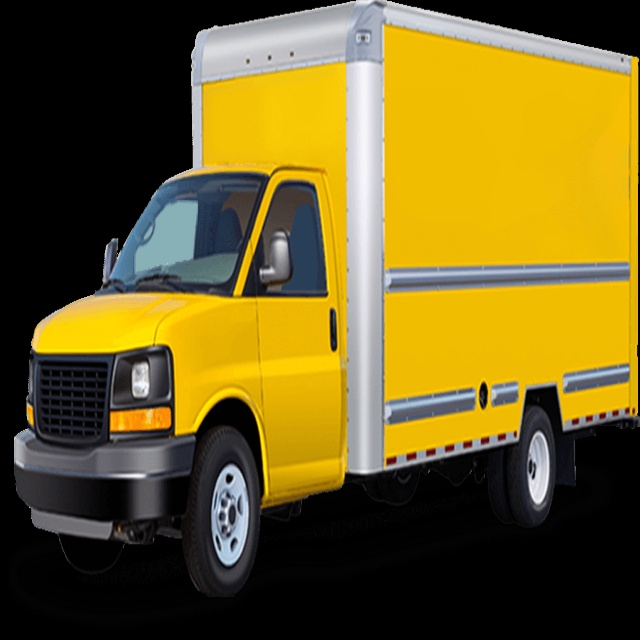Truck: (13, 1, 639, 598)
